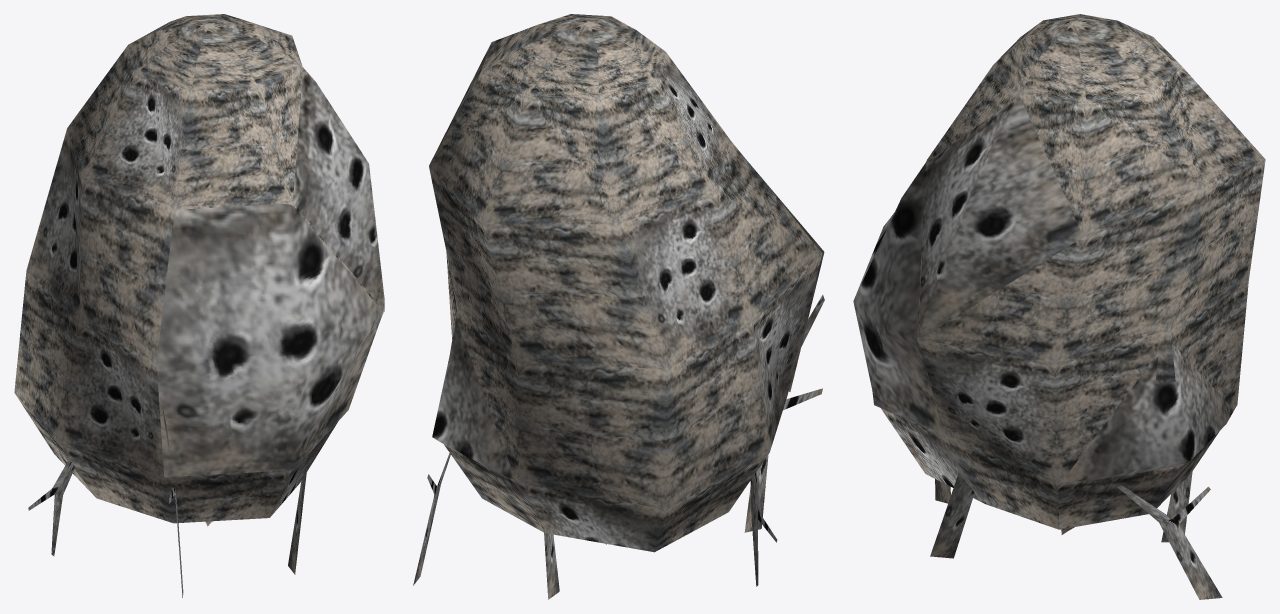
The model's file is wasp_nest.fbx.
3 views of the same model, side by side, from view 1: azimuth 30°, elevation 25°; view 2: azimuth 150°, elevation 25°; view 3: azimuth 270°, elevation 25° (orthographic). The views are drawn at different scales.
Parts seen in each view (by area): view 1: main, holes03, holes01, support; view 2: main, holes02, support, holes03; view 3: main, holes01, holes03, holes02, support.
Boxes of the visible parts, box(x1,y1,x2,y2) form: main: box(14, 14, 383, 523); holes03: box(156, 204, 382, 477); holes01: box(292, 67, 384, 311); support: box(28, 408, 307, 597); main: box(429, 14, 822, 552); holes02: box(432, 321, 606, 544); support: box(413, 294, 824, 599); holes03: box(746, 159, 824, 391); main: box(881, 14, 1265, 529); holes01: box(917, 96, 1084, 339); holes03: box(853, 163, 943, 434); holes02: box(1057, 343, 1235, 534); support: box(930, 471, 1222, 599).
Size of the model in its own units: 667 by 987 by 701.
Materials: 1 (1 with a texture image).
